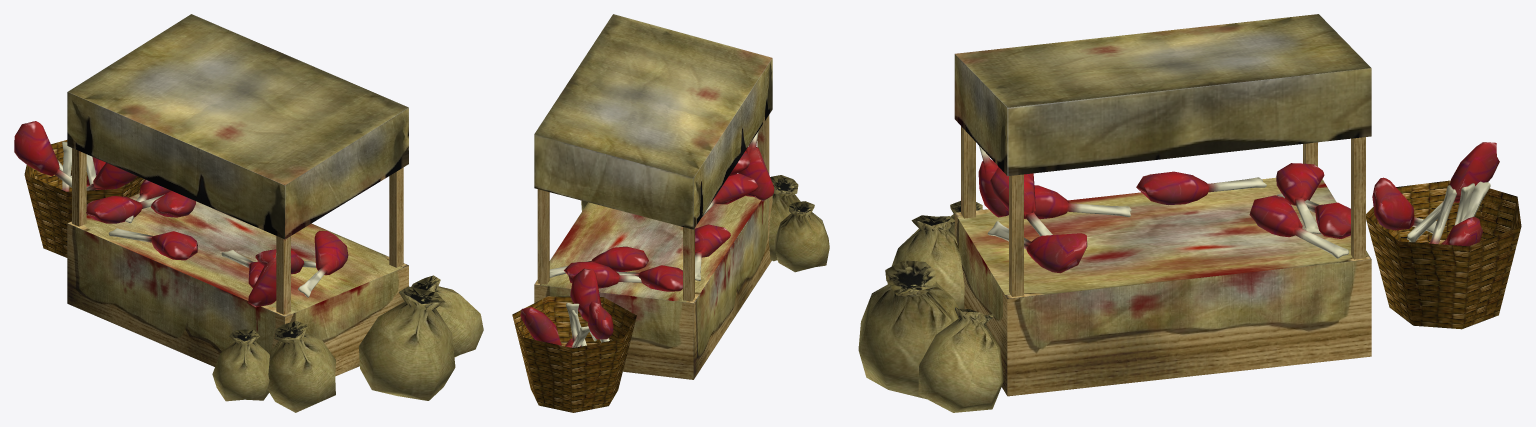
File: meat_store06.fbx
3 renders of one model, left to right at view 1: azimuth 30°, elevation 25°; view 2: azimuth 150°, elevation 25°; view 3: azimuth 270°, elevation 25°, orthographic. The views are drawn at different scales.
Visible parts, largest first — view 1: stand_meat_6, bag_21, bag_22, basket_6, bag_23, bag_24, meat_72, meat_78, meat_82, meat_84, meat_79, meat_83 (+4 smaller); view 2: stand_meat_6, basket_6, bag_23, bag_22, meat_83, meat_73, meat_79, meat_84, meat_82, meat_81, meat_71, meat_80 (+1 smaller); view 3: stand_meat_6, basket_6, bag_21, bag_24, bag_22, meat_82, meat_78, meat_83, meat_72, meat_84, meat_73, meat_80 (+5 smaller).
Boxes of the visible parts, left/top/right/bottom form: stand_meat_6: left=67, top=14, right=408, bottom=376; bag_21: left=359, top=286, right=455, bottom=400; bag_22: left=267, top=321, right=335, bottom=412; basket_6: left=24, top=140, right=144, bottom=257; bag_23: left=212, top=329, right=269, bottom=401; bag_24: left=411, top=275, right=483, bottom=357; meat_72: left=14, top=121, right=71, bottom=187; meat_78: left=298, top=230, right=348, bottom=297; meat_82: left=108, top=228, right=197, bottom=260; meat_84: left=86, top=194, right=164, bottom=223; meat_79: left=248, top=253, right=276, bottom=307; meat_83: left=151, top=191, right=195, bottom=217; stand_meat_6: left=534, top=14, right=772, bottom=379; basket_6: left=512, top=296, right=636, bottom=412; bag_23: left=774, top=201, right=829, bottom=272; bag_22: left=769, top=175, right=800, bottom=261; meat_83: left=549, top=246, right=648, bottom=277; meat_73: left=570, top=268, right=609, bottom=342; meat_79: left=738, top=131, right=774, bottom=201; meat_84: left=616, top=265, right=682, bottom=291; meat_82: left=695, top=224, right=730, bottom=281; meat_81: left=564, top=262, right=641, bottom=288; meat_71: left=520, top=307, right=561, bottom=345; meat_80: left=702, top=173, right=758, bottom=216; stand_meat_6: left=954, top=14, right=1371, bottom=396; basket_6: left=1366, top=180, right=1521, bottom=329; bag_21: left=858, top=260, right=958, bottom=399; bag_24: left=918, top=307, right=1003, bottom=412; bag_22: left=887, top=215, right=964, bottom=308; meat_82: left=1136, top=171, right=1266, bottom=204; meat_78: left=987, top=221, right=1087, bottom=273; meat_83: left=1249, top=195, right=1348, bottom=258; meat_72: left=1407, top=142, right=1499, bottom=242; meat_84: left=1276, top=163, right=1324, bottom=233; meat_73: left=1372, top=177, right=1436, bottom=233; meat_80: left=1005, top=185, right=1131, bottom=219.
Bounding box in the file's own units: 64.83 × 58.16 × 116.
